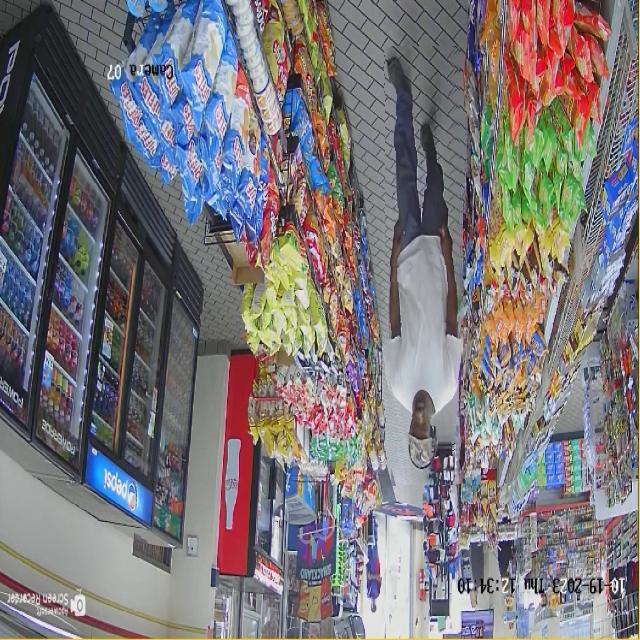Normal: (385, 46, 463, 485)
